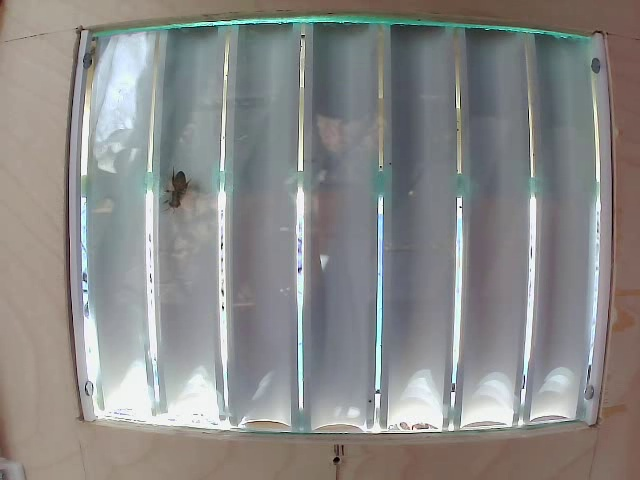bee: (162, 164, 200, 218)
